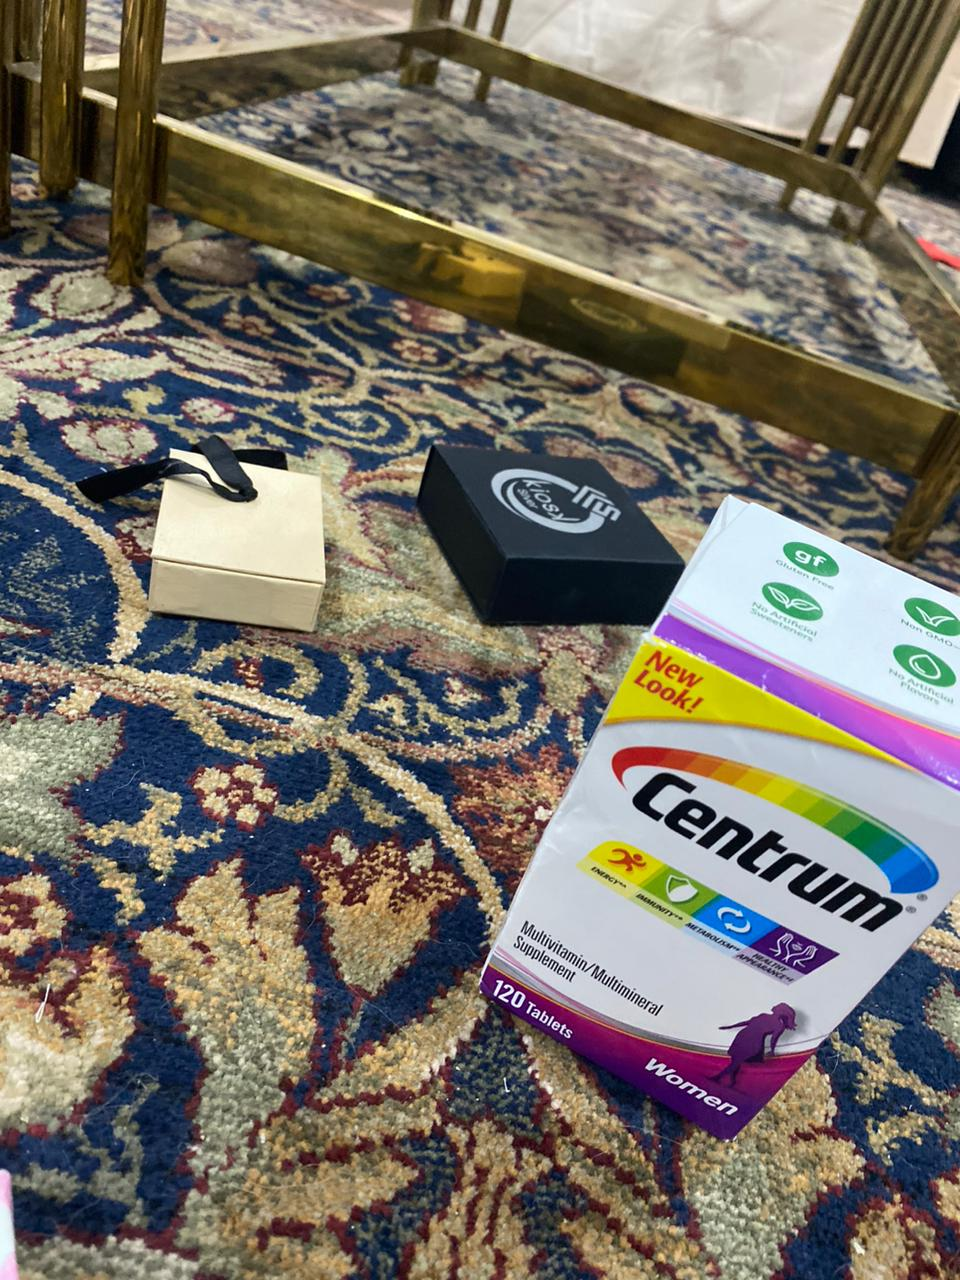Centrum: (480, 493, 960, 1145)
Red Box: (416, 446, 690, 624)
Yellow Box: (149, 449, 330, 641)
